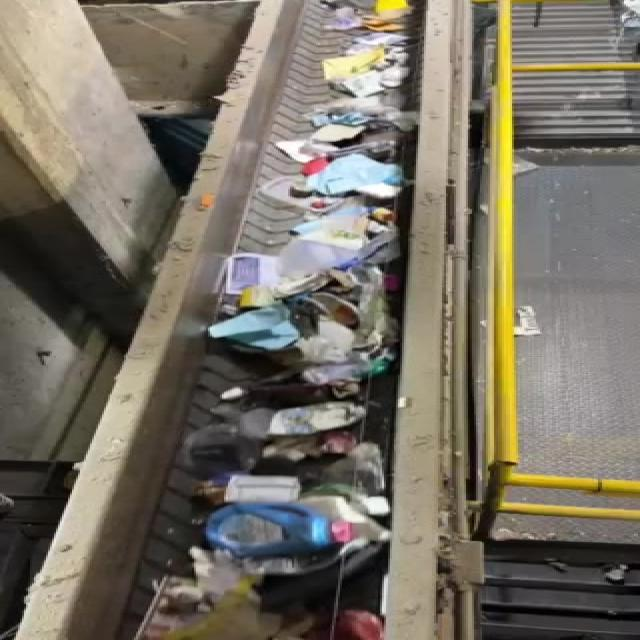hdpe: (193, 500, 364, 555)
paper: (248, 396, 376, 437)
pp: (310, 438, 418, 501), (155, 424, 244, 474)
